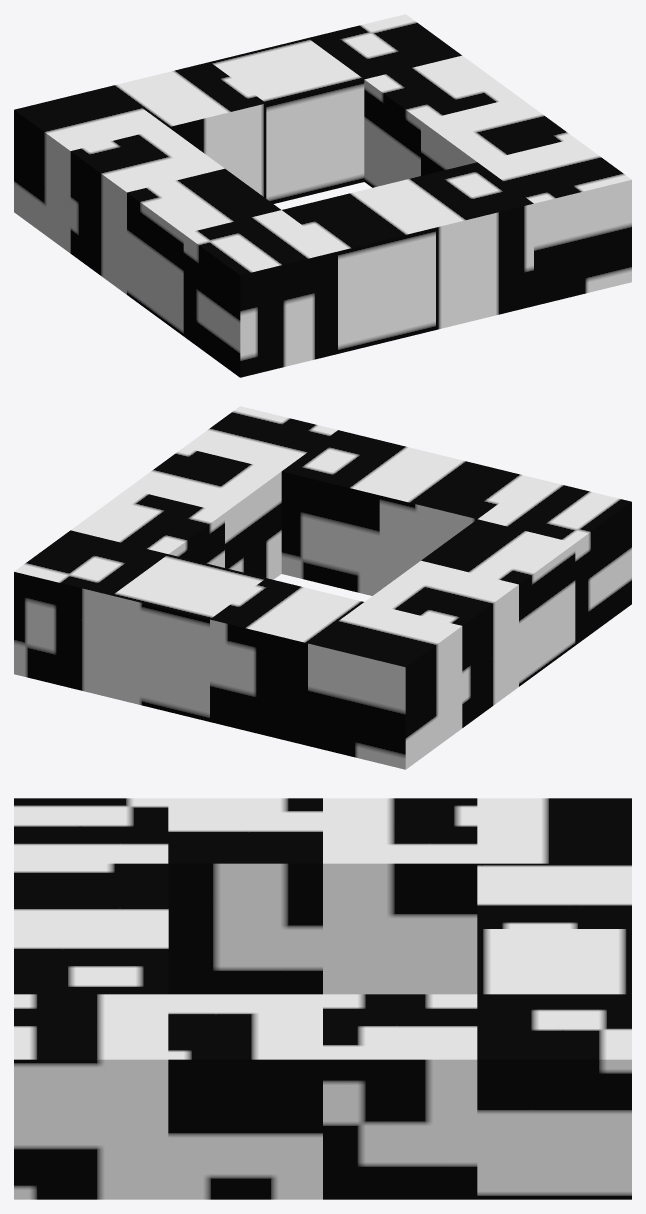
3 views of the same model, one above another, from view 1: azimuth 30°, elevation 25°; view 2: azimuth 150°, elevation 25°; view 3: azimuth 270°, elevation 25° (orthographic). The views are drawn at different scales.
Bounding box in the file's own units: 0.096 × 0.024 × 0.096.
